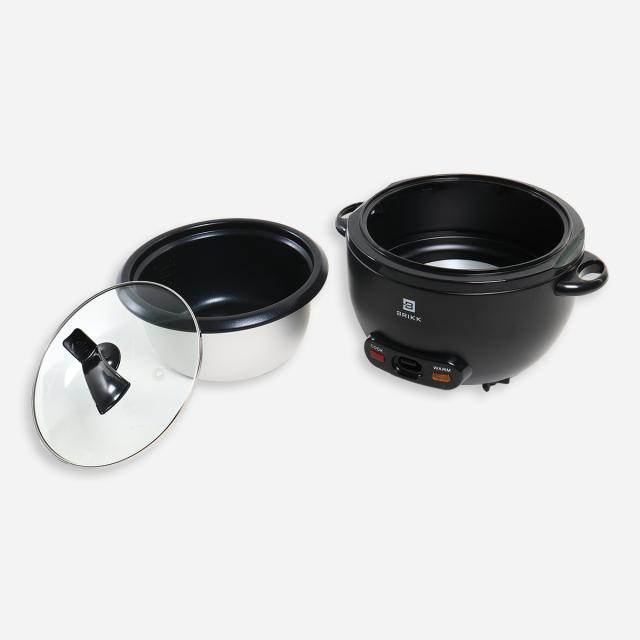appliances: (32, 219, 326, 467), (335, 174, 606, 390), (117, 219, 327, 381), (147, 323, 180, 370), (131, 305, 134, 308), (131, 308, 133, 310), (187, 366, 188, 367)
